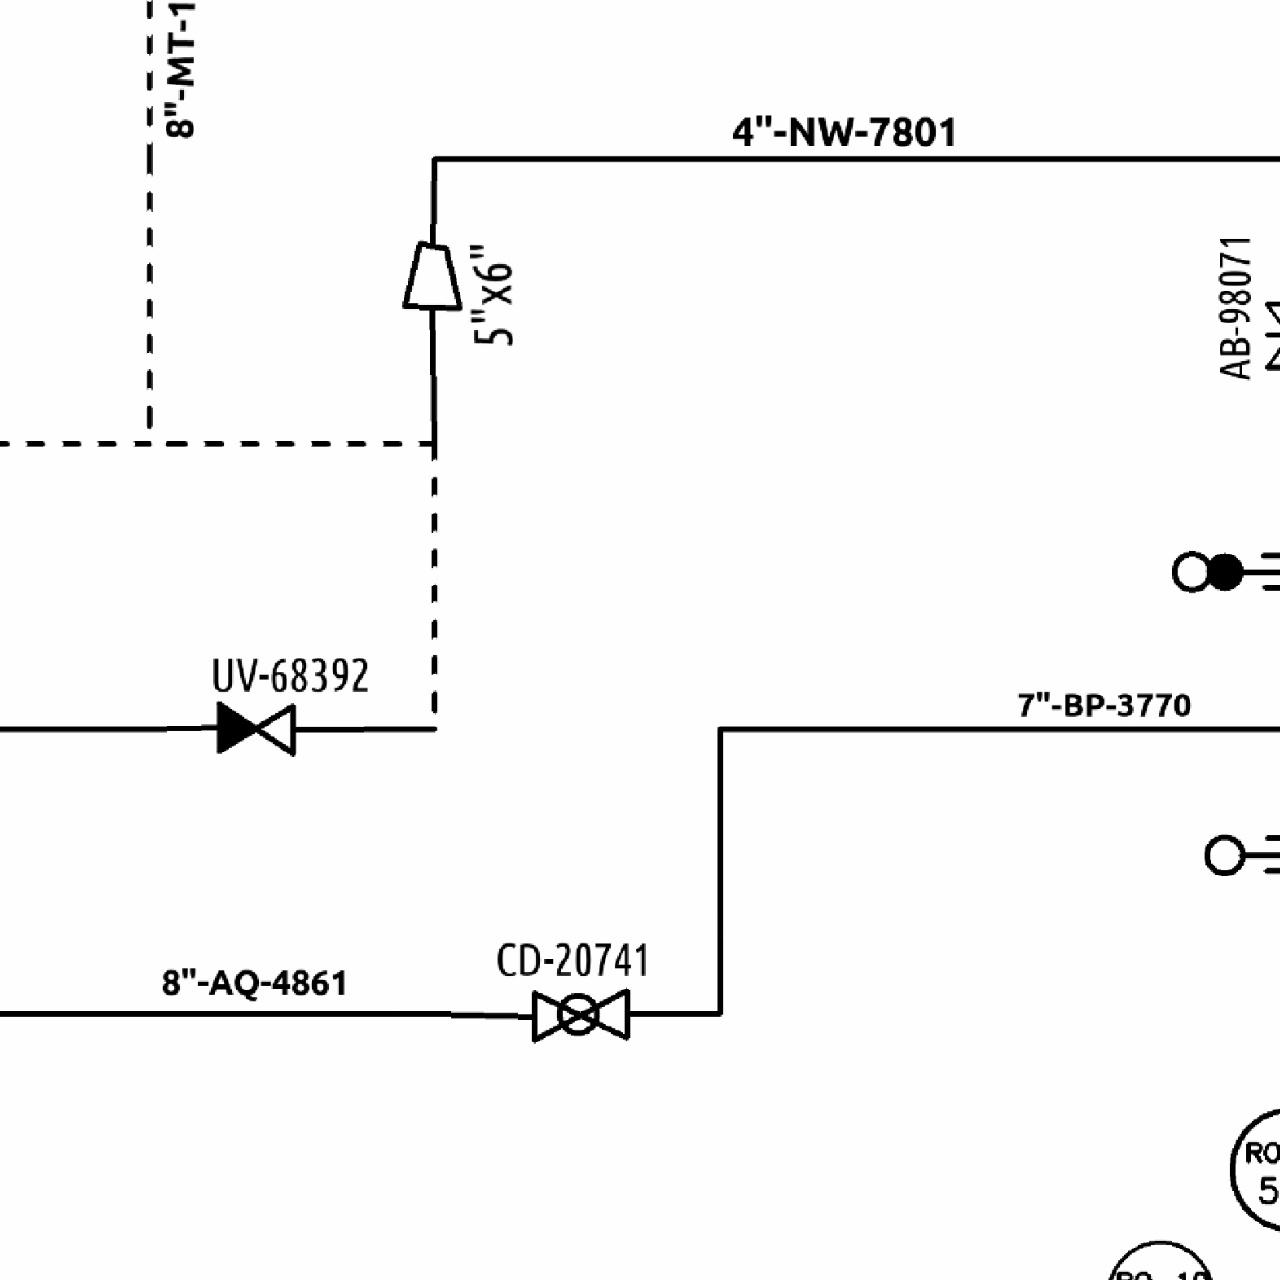Half closed valve: (211, 696, 298, 760)
